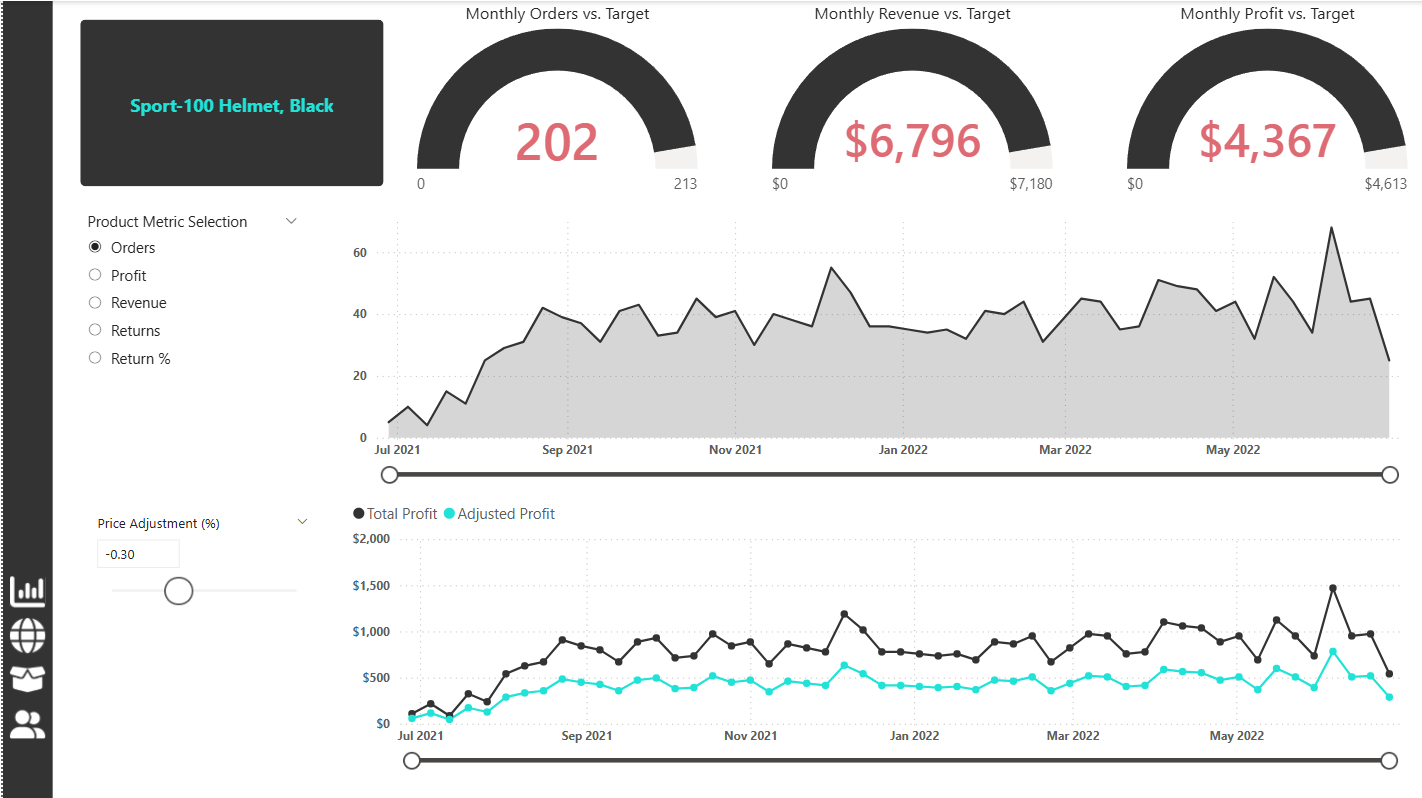

The dashboard page shown, as its layout file describes it:
{"tool":"powerbi","page":{"name":"Product Detail","canvas":[1280,720],"ordinal":2},"visuals":[{"type":"shape","box":[0,0,45,720],"z":0},{"type":"gauge","title":"Monthly Orders vs. Target","fields":{"MaxValue":["Measure Table.Order Target"],"Y":["Measure Table.Total Orders"]},"box":[360.7,0,278.6,184.1],"z":2},{"type":"gauge","title":"Monthly Revenue vs. Target","fields":{"MaxValue":["Measure Table.Revenue Target"],"Y":["Measure Table.Total Revenue"]},"box":[681,0,278.6,184.1],"z":3},{"type":"gauge","title":"Monthly Profit vs. Target","fields":{"MaxValue":["Measure Table.Profit Target"],"Y":["Measure Table.Total Profit"]},"box":[1001.3,0,278.6,184.1],"z":4},{"type":"areaChart","title":"Reurn Trending","fields":{"Category":["Calendar Lookup.Date Hierarchy.Start of Year","Calendar Lookup.Date Hierarchy.Start of Month","Calendar Lookup.Date Hierarchy.Start of Week","Calendar Lookup.Date Hierarchy.Date"],"Y":["Measure Table.Total Orders"]},"box":[309.8,184.6,970.2,253.1],"z":5},{"type":"lineChart","title":"Profit Trending","fields":{"Category":["Calendar Lookup.Date Hierarchy.Start of Year","Calendar Lookup.Date Hierarchy.Start of Month","Calendar Lookup.Date Hierarchy.Start of Week","Calendar Lookup.Date Hierarchy.Date"],"Y":["Measure Table.Total Profit","Measure Table.Adjusted Profit"]},"box":[309.7,441.6,970.3,253.8],"z":6},{"type":"cardVisual","fields":{"Data":["Min(Product Lookup.ProductName)"]},"box":[53.5,0,307.8,184.7],"z":7},{"type":"actionButton","box":[2.5,631.9,44.8,39.8],"z":8},{"type":"actionButton","box":[2.5,552.3,44.8,39.8],"z":9},{"type":"actionButton","box":[2.5,592.1,44.8,39.8],"z":10},{"type":"actionButton","box":[2.5,512.5,44.8,39.8],"z":11},{"type":"slicer","fields":{"Values":["Price Adjustment (%).Price Adjustment (%)"]},"box":[72.1,457.8,215.2,109.5],"z":12},{"type":"slicer","fields":{"Values":["Product Metric Selection.Product Metric Selection"]},"box":[63.3,184.6,214.9,185.9],"z":13}]}

Visuals, with their boxes on the page's 1280x720 design canvas (x1, y1, x2, y2). These are canvas units, not pixel positions in the 1422x798 screenshot, which may show the page scaled, cropped or inside an application window:
shape: x1=0, y1=0, x2=45, y2=720
"Monthly Orders vs. Target" gauge: x1=361, y1=0, x2=639, y2=184
"Monthly Revenue vs. Target" gauge: x1=681, y1=0, x2=960, y2=184
"Monthly Profit vs. Target" gauge: x1=1001, y1=0, x2=1280, y2=184
"Reurn Trending" areaChart: x1=310, y1=185, x2=1280, y2=438
"Profit Trending" lineChart: x1=310, y1=442, x2=1280, y2=695
cardVisual - Min(Product Lookup.ProductName): x1=54, y1=0, x2=361, y2=185
actionButton: x1=2, y1=632, x2=47, y2=672
actionButton: x1=2, y1=552, x2=47, y2=592
actionButton: x1=2, y1=592, x2=47, y2=632
actionButton: x1=2, y1=512, x2=47, y2=552
slicer - Price Adjustment (%).Price Adjustment (%): x1=72, y1=458, x2=287, y2=567
slicer - Product Metric Selection.Product Metric Selection: x1=63, y1=185, x2=278, y2=370
